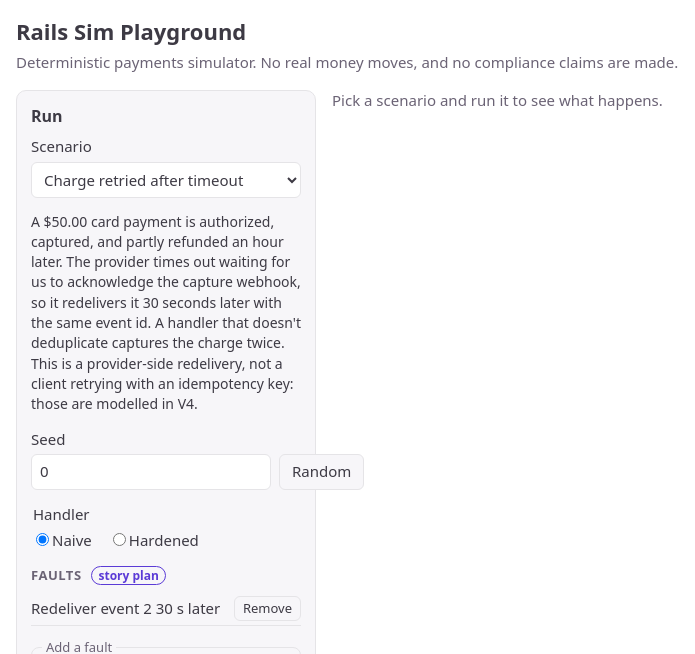
it: editing the fault plan › reset to story plan undoes edits
The image size is (695, 654).
Click the button with aria-label "Remove: " at (267, 609), box [234,596,301,621]
(page scrolled)
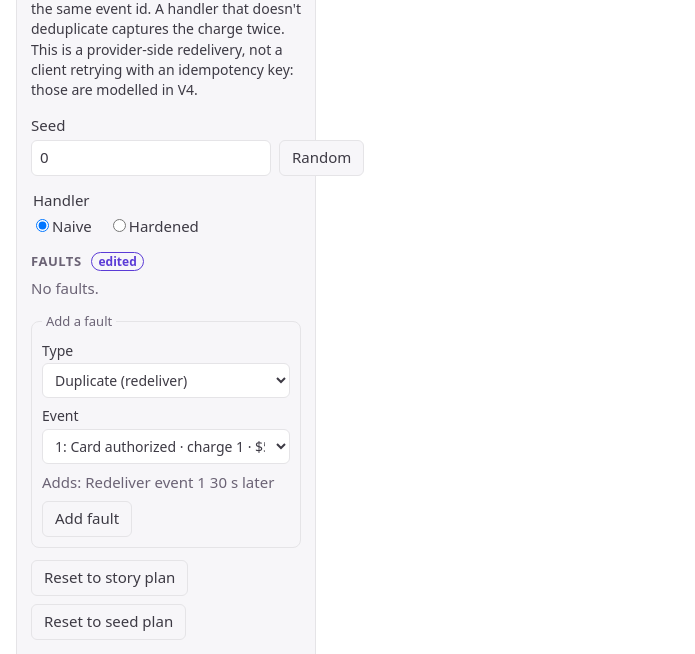
Click the button "Reset to story plan" at (110, 578), box [31,560,188,596]
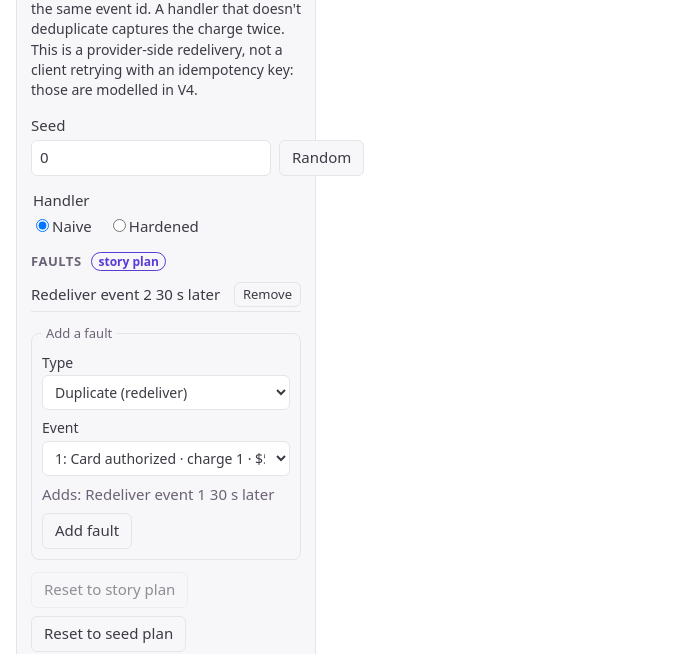
Now the text "story plan" is shown, box [92,252,166,270]
